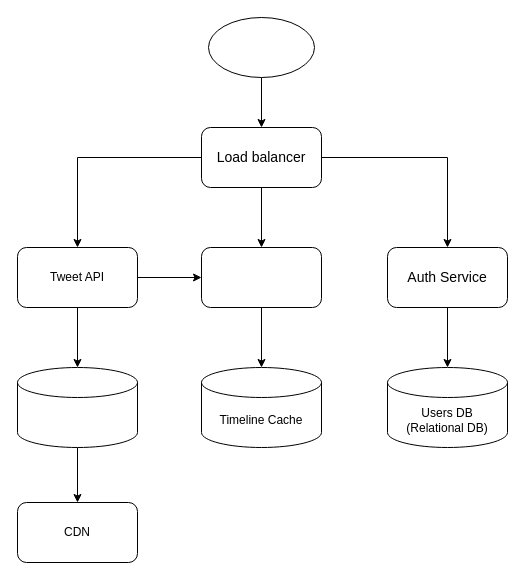
The diagram is 525 pixels wide and 580 high, and some of its shapes have lost their labels. The box of each missing label's shape, as (x1, y1, x2, y2) in pixels:
Timeline Generation Service: (200, 246, 322, 308)
Tweets DB (NoSQL + Media): (16, 366, 138, 448)
User: (208, 16, 314, 78)
